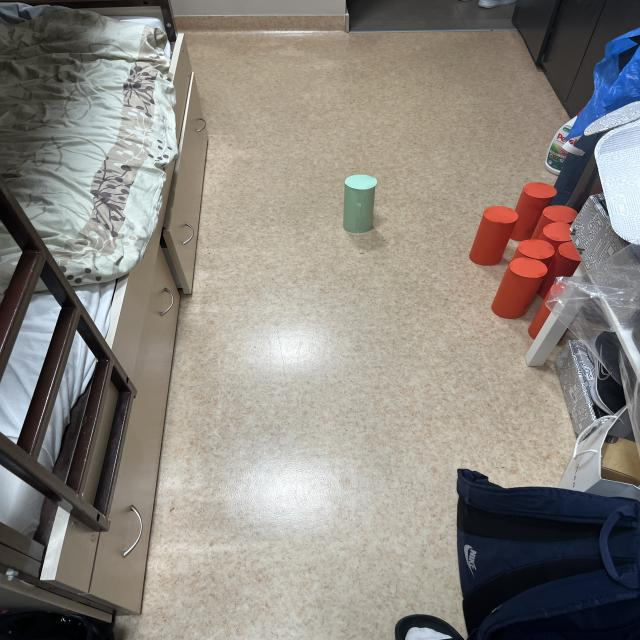meta: (343, 175, 377, 233)
